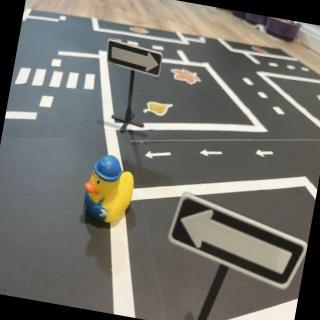duck_specialty: (78, 149, 142, 234)
road_crosswalk: (12, 56, 101, 102)
road_oneway: (145, 148, 175, 164), (200, 146, 227, 162), (256, 146, 278, 165)
sign_oneway_left: (162, 191, 314, 295)
sign_oneway_right: (104, 38, 167, 79)
